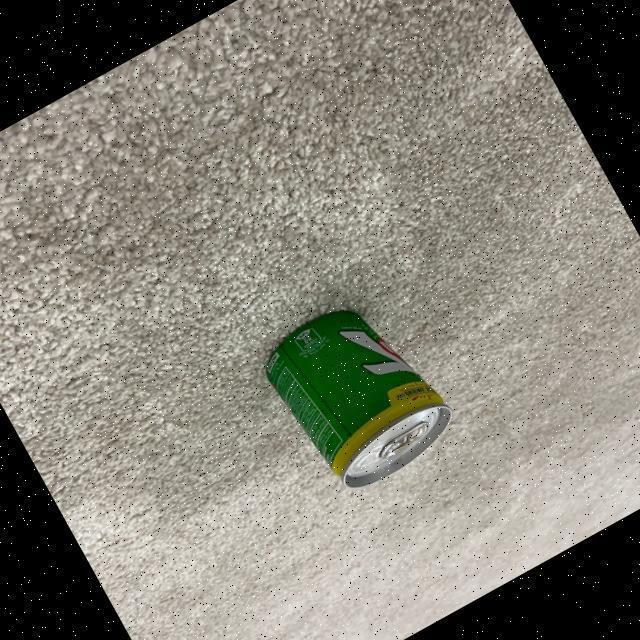can: (251, 279, 469, 509)
